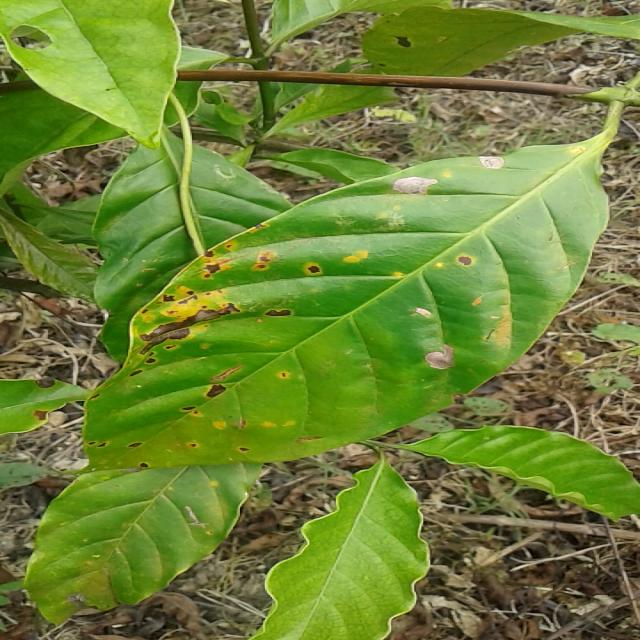Enfermedad-Roya: (83, 139, 610, 482)
